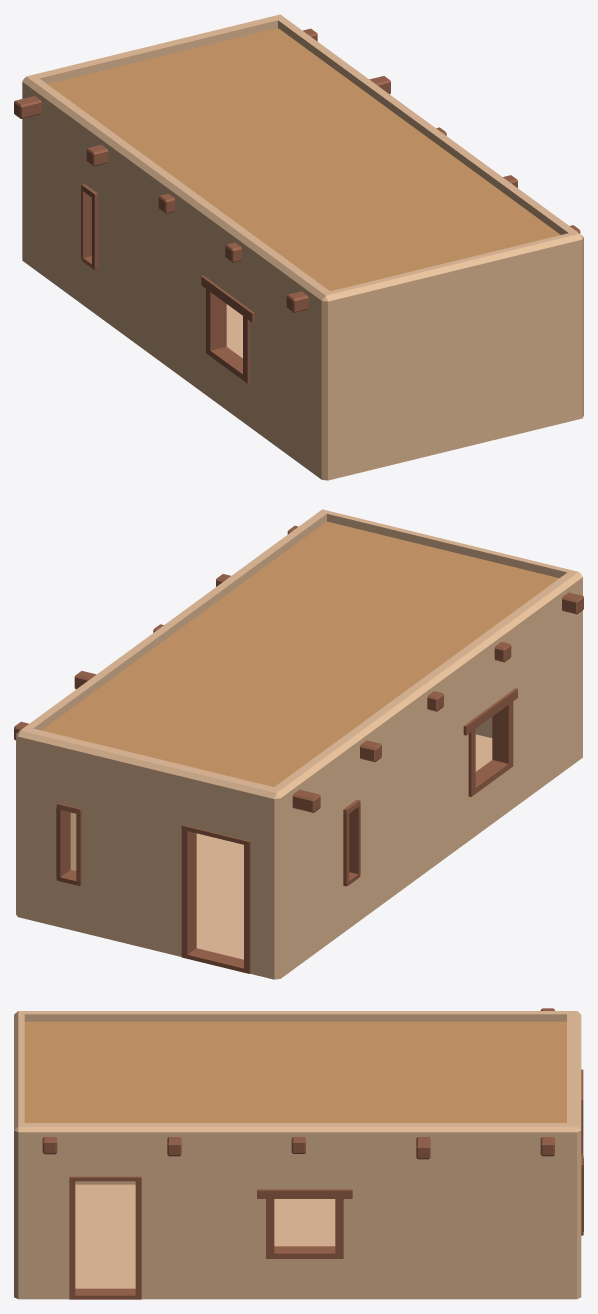
Rendered from Medium Building Frame B.glb.
3 renders of one model, top to bottom at view 1: azimuth 30°, elevation 25°; view 2: azimuth 150°, elevation 25°; view 3: azimuth 270°, elevation 25°, orthographic. The views are drawn at different scales.
Parts seen in each view (by area): view 1: Medium Building Frame B; view 2: Medium Building Frame B; view 3: Medium Building Frame B.
Boxes of the visible parts, left/top/right/bottom form: Medium Building Frame B: left=14, top=14, right=583, bottom=480; Medium Building Frame B: left=14, top=509, right=583, bottom=979; Medium Building Frame B: left=14, top=1008, right=583, bottom=1299.
Bounding box in the file's own units: 571 × 328 × 993.
